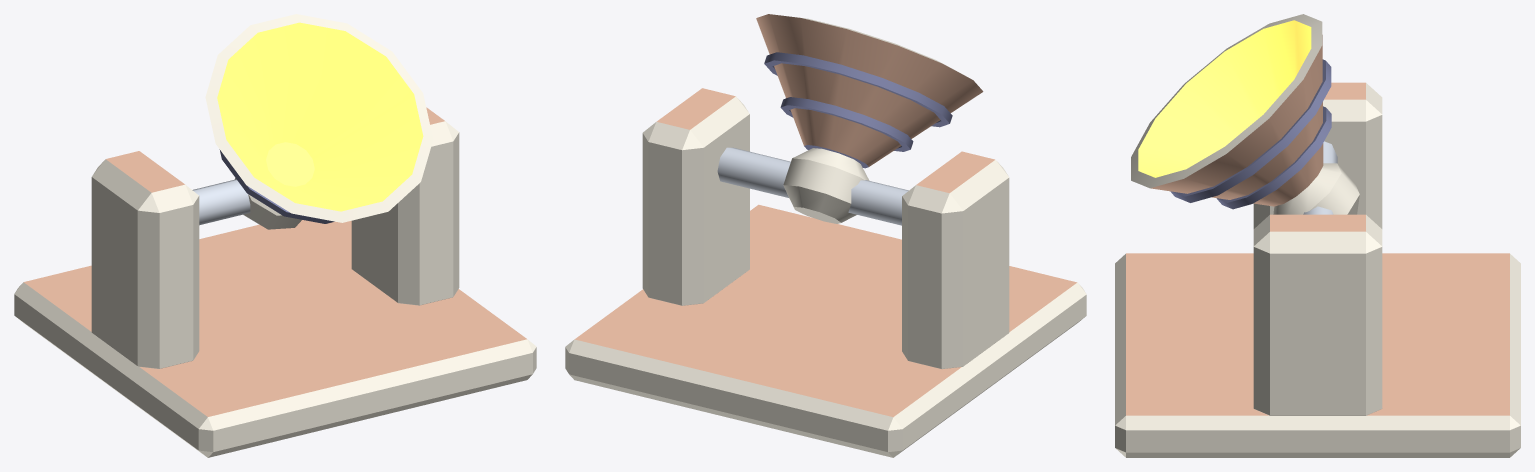
Rendered from R4X_DeployableAmplifier_LOD1.fbx.
The picture shows the model from 3 angles, left to right: view 1: azimuth 30°, elevation 25°; view 2: azimuth 150°, elevation 25°; view 3: azimuth 270°, elevation 25°; orthographic projection. The views are drawn at different scales.
Visible parts, largest first — view 1: R4X_DeployableAmplifier_LOD1; view 2: R4X_DeployableAmplifier_LOD1; view 3: R4X_DeployableAmplifier_LOD1.
Boxes of the visible parts, x1,y1,x2,y2 form: R4X_DeployableAmplifier_LOD1: [14, 14, 536, 457]; R4X_DeployableAmplifier_LOD1: [565, 14, 1086, 457]; R4X_DeployableAmplifier_LOD1: [1115, 14, 1520, 457].
Bounding box in the file's own units: 0.52 × 0.4855 × 0.52.
